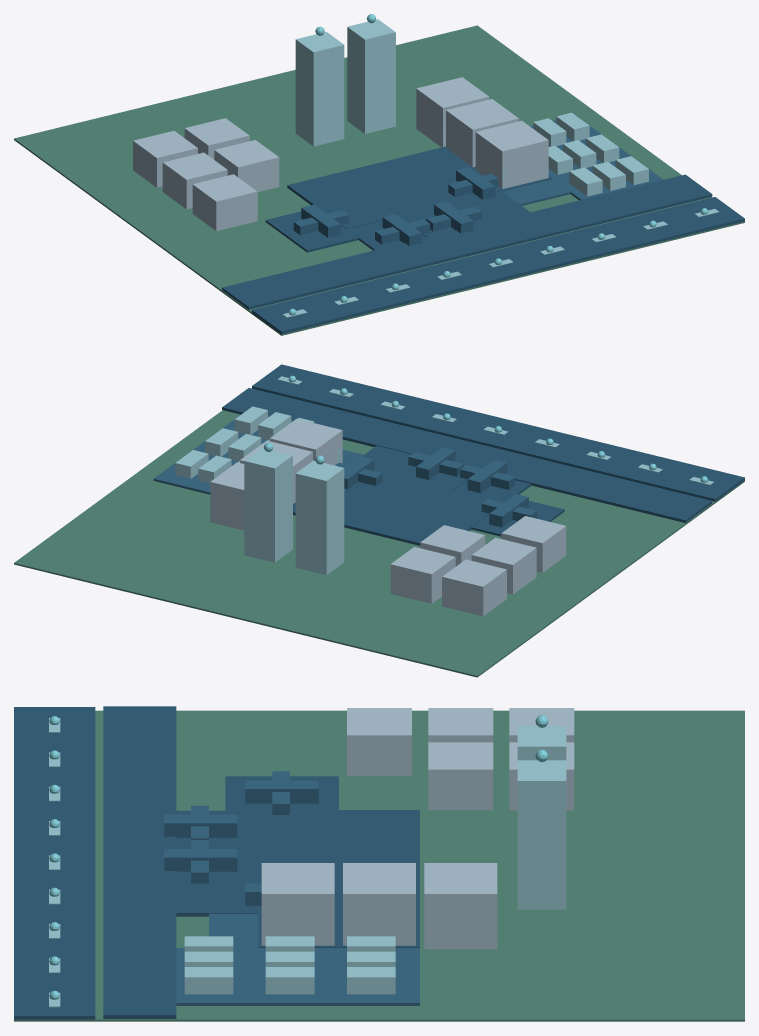
Rendered from stage_23.glb.
The picture shows the model from 3 angles, top to bottom: view 1: azimuth 30°, elevation 25°; view 2: azimuth 150°, elevation 25°; view 3: azimuth 270°, elevation 25°; orthographic projection. The views are drawn at different scales.
Visible parts, largest first — view 1: geometry_0; view 2: geometry_0; view 3: geometry_0.
Boxes of the visible parts, x1=… form: geometry_0: x1=14, y1=14, x2=744, y2=335; geometry_0: x1=14, y1=364, x2=744, y2=677; geometry_0: x1=14, y1=706, x2=744, y2=1021.
Bounding box in the file's own units: 9 × 2.06 × 9.
